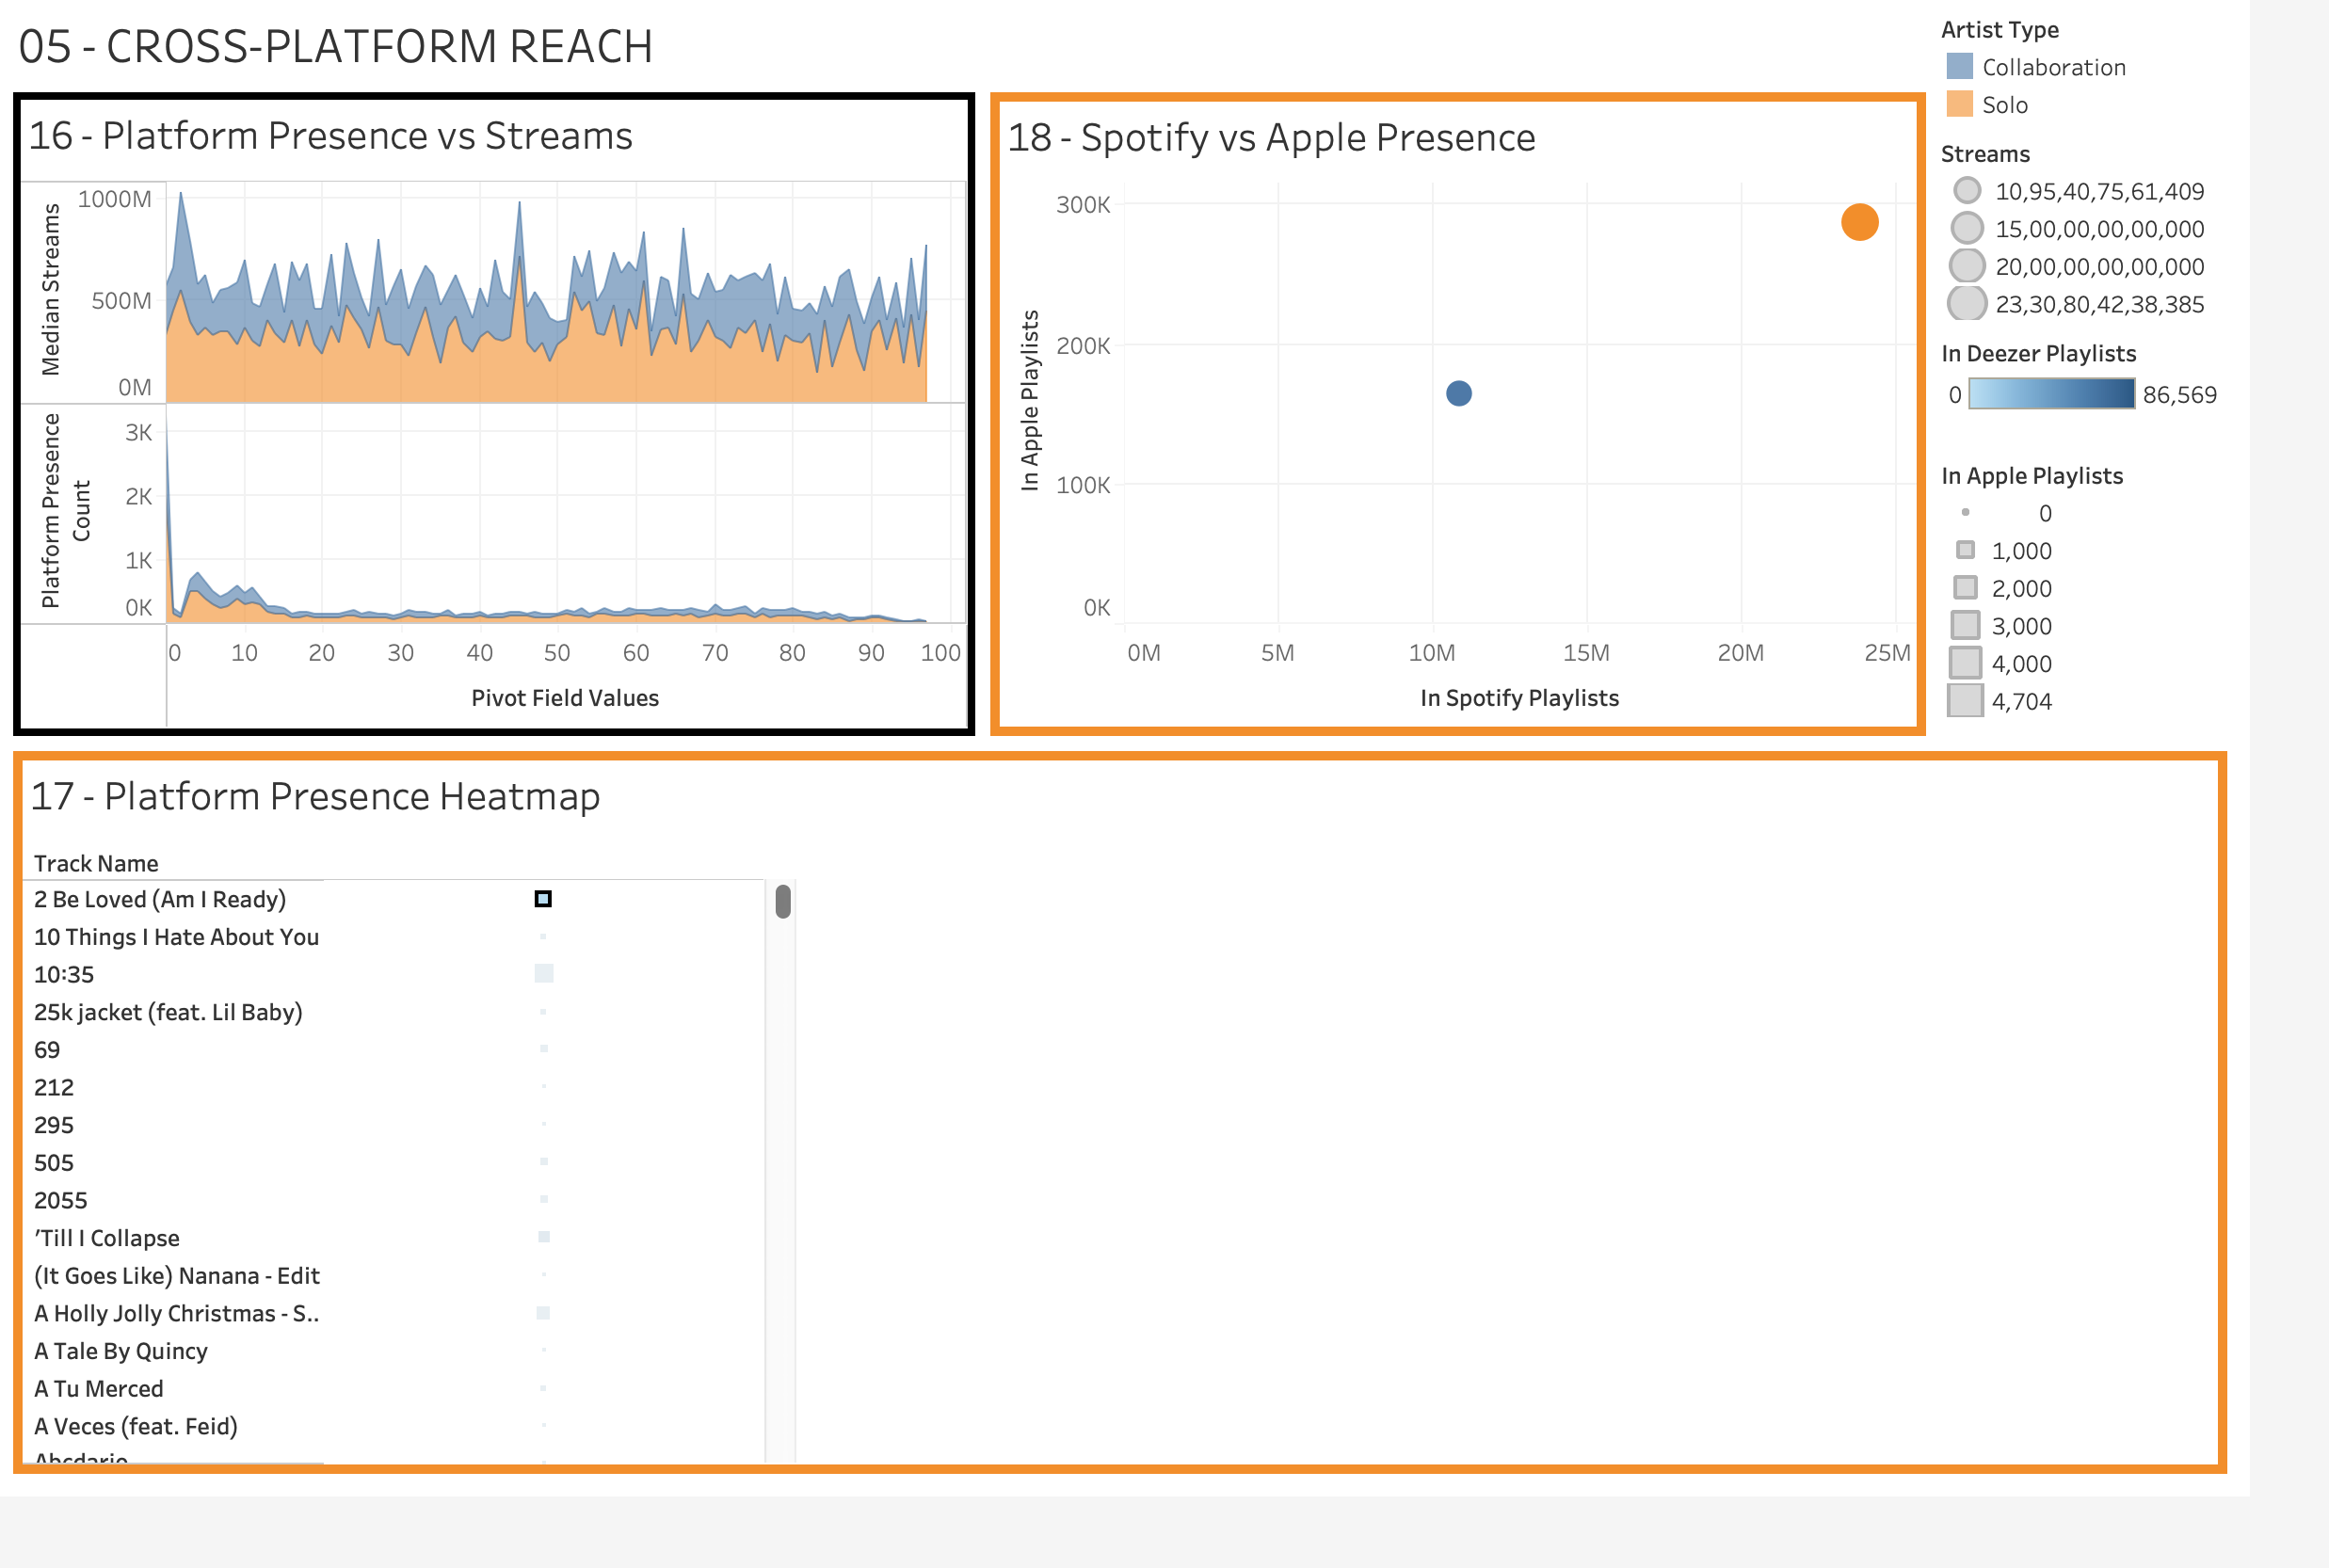

The page's visual inventory and layout, read from the dashboard file:
{"tool":"tableau","page":{"name":"05 - CROSS-PLATFORM REACH","canvas":[1200,800],"ordinal":4},"visuals":[{"type":"title","box":[8,8,1024,42]},{"type":"legend","title":"16 - Platform Presence vs Streams","param":"[federated.0odphf00k9yut019sd75t1iur6ny].[none:Calculation_1502326421024768:nk]","box":[1032,8,160,66]},{"type":"worksheet","title":"16 - Platform Presence vs Streams","mark":"Area","rows":["streams","Calculation_1502326425133057"],"cols":["Pivot Field Values"],"box":[8,50,519,350]},{"type":"worksheet","title":"18 - Spotify vs Apple Presence","mark":"Circle","rows":["in_apple_playlists"],"cols":["in_spotify_playlists"],"box":[527,50,505,350]},{"type":"legend","title":"18 - Spotify vs Apple Presence","param":"[federated.0odphf00k9yut019sd75t1iur6ny].[sum:streams:qk]","box":[1032,74,160,106]},{"type":"legend","title":"17 - Platform Presence Heatmap","param":"[federated.0odphf00k9yut019sd75t1iur6ny].[sum:in_deezer_playlists:qk]","box":[1032,180,160,65]},{"type":"legend","title":"17 - Platform Presence Heatmap","param":"[federated.0odphf00k9yut019sd75t1iur6ny].[sum:in_apple_playlists:qk]","box":[1032,245,160,146]},{"type":"worksheet","title":"17 - Platform Presence Heatmap","mark":"Automatic","rows":["track_name"],"box":[8,400,1184,392]}]}

Visuals, with their boxes in screenshot pixels (x1, y1, x2, y2), scaled from the page's 1200x800 canvas onto the 2329x1568 screenshot:
title: box=[15, 16, 2003, 98]
"16 - Platform Presence vs Streams" legend: box=[2003, 16, 2314, 145]
"16 - Platform Presence vs Streams" worksheet (Area marks): box=[15, 98, 1022, 784]
"18 - Spotify vs Apple Presence" worksheet (Circle marks): box=[1022, 98, 2003, 784]
"18 - Spotify vs Apple Presence" legend: box=[2003, 145, 2314, 353]
"17 - Platform Presence Heatmap" legend: box=[2003, 353, 2314, 480]
"17 - Platform Presence Heatmap" legend: box=[2003, 480, 2314, 766]
"17 - Platform Presence Heatmap" worksheet: box=[15, 784, 2314, 1552]
